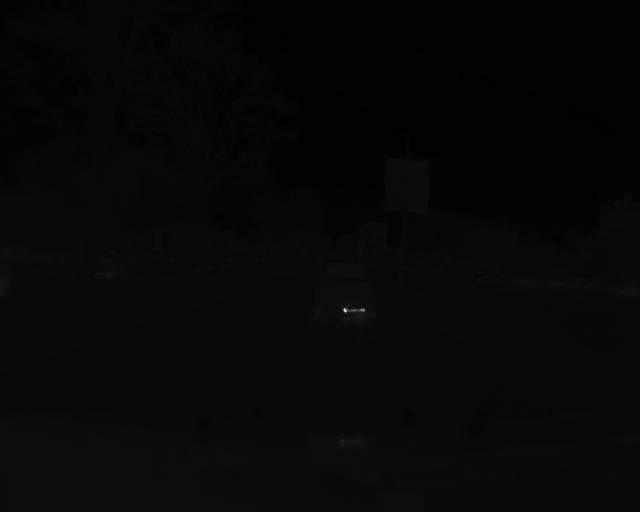car: (310, 258, 380, 322)
